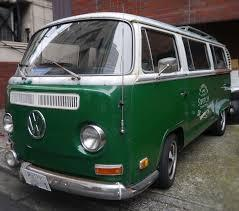volkswagen: (24, 108, 50, 142)
